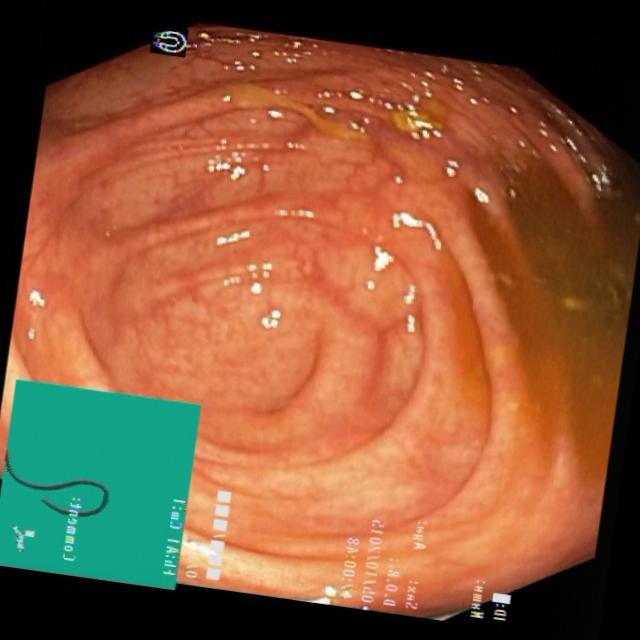normal-cecum: (421, 140, 640, 524), (218, 68, 452, 164)
